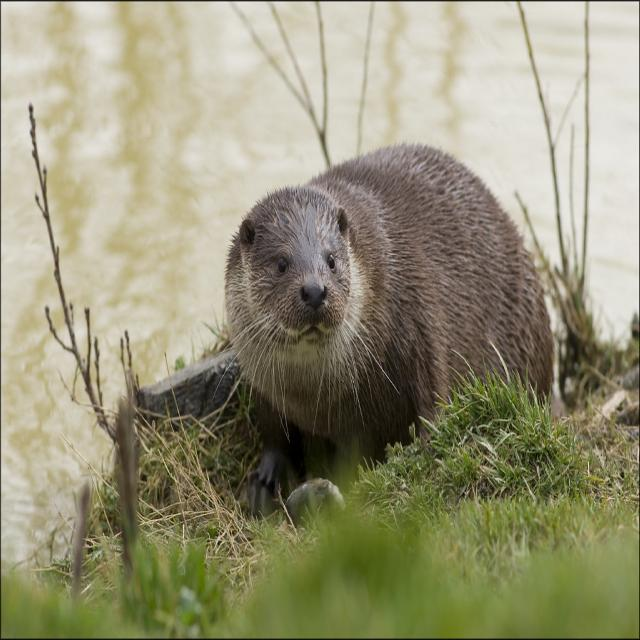otter: (229, 142, 552, 426)
